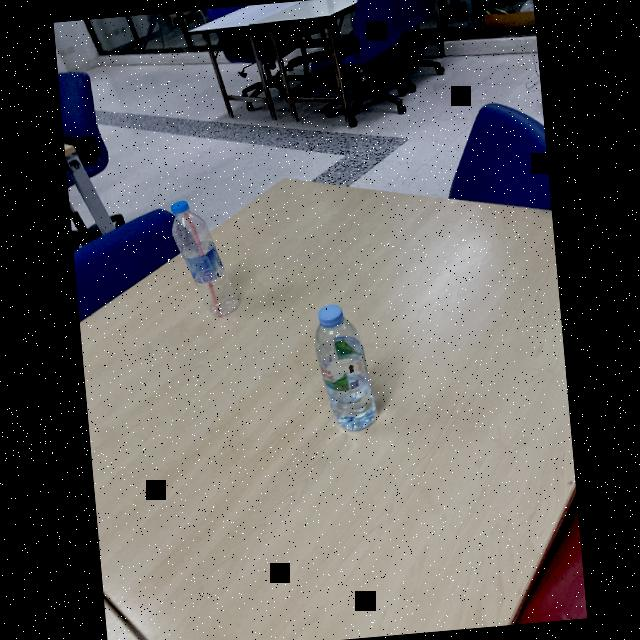plastic_bottle: (161, 191, 245, 323), (310, 298, 384, 437)
plastic_bottle_cap: (316, 302, 344, 328), (165, 196, 196, 217)
straw: (184, 212, 223, 318)
